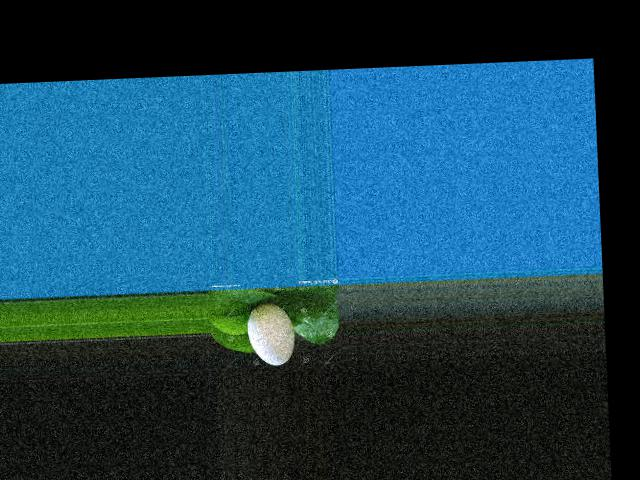egg: (246, 302, 295, 366)
